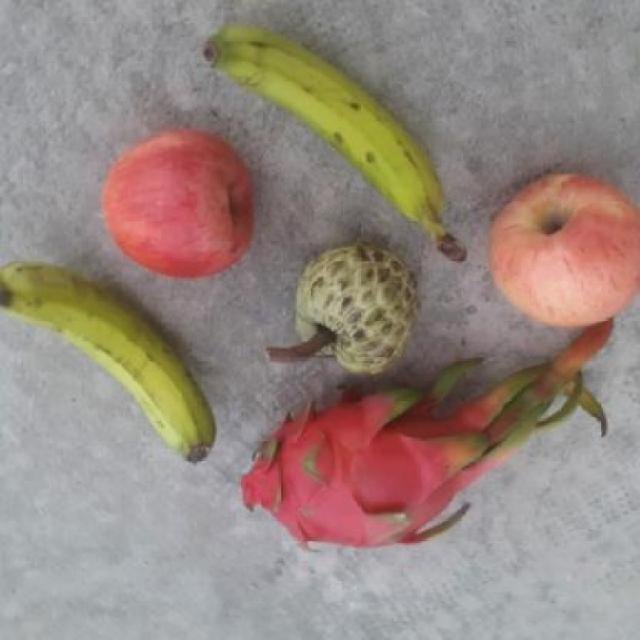apple: (477, 166, 640, 326), (95, 129, 258, 280)
banana: (196, 23, 470, 266), (0, 263, 215, 463)
dragon fruit: (239, 374, 490, 551)
sugar apple: (275, 242, 421, 380)
